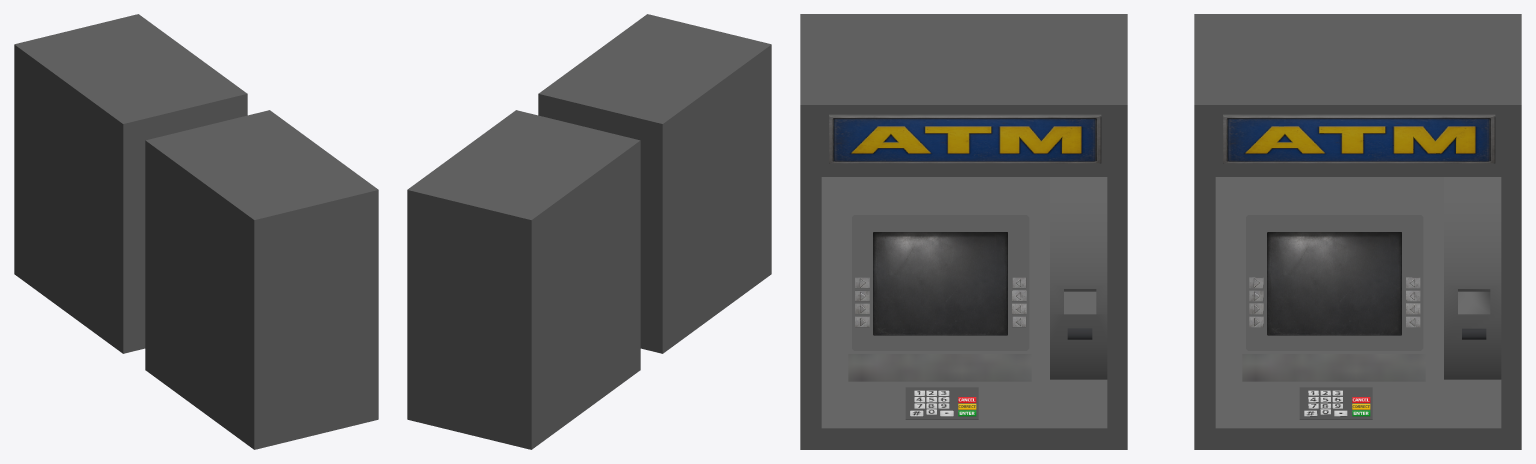
The model's file is ATM.fbx.
The picture shows the model from 3 angles, left to right: view 1: azimuth 30°, elevation 25°; view 2: azimuth 150°, elevation 25°; view 3: azimuth 270°, elevation 25°; orthographic projection. The views are drawn at different scales.
Parts seen in each view (by area): view 1: Base.001, Base; view 2: Base, Base.001; view 3: Base, Base.001, Display, Display.001, Sign, CardPanel, MonPush, NumberPanel.
Boxes of the visible parts, box(x1,y1,x2,y2) form: Base.001: box(145, 110, 378, 449); Base: box(14, 14, 247, 353); Base: box(407, 110, 640, 449); Base.001: box(538, 14, 771, 353); Base: box(1194, 14, 1521, 449); Base.001: box(800, 14, 1127, 449); Display: box(1267, 232, 1401, 335); Display.001: box(873, 232, 1007, 335); Sign: box(829, 114, 1101, 163); CardPanel: box(1050, 177, 1107, 379); MonPush: box(848, 354, 1031, 381); NumberPanel: box(905, 387, 978, 419).
Bounding box in the file's own units: 143 × 249 × 471.
